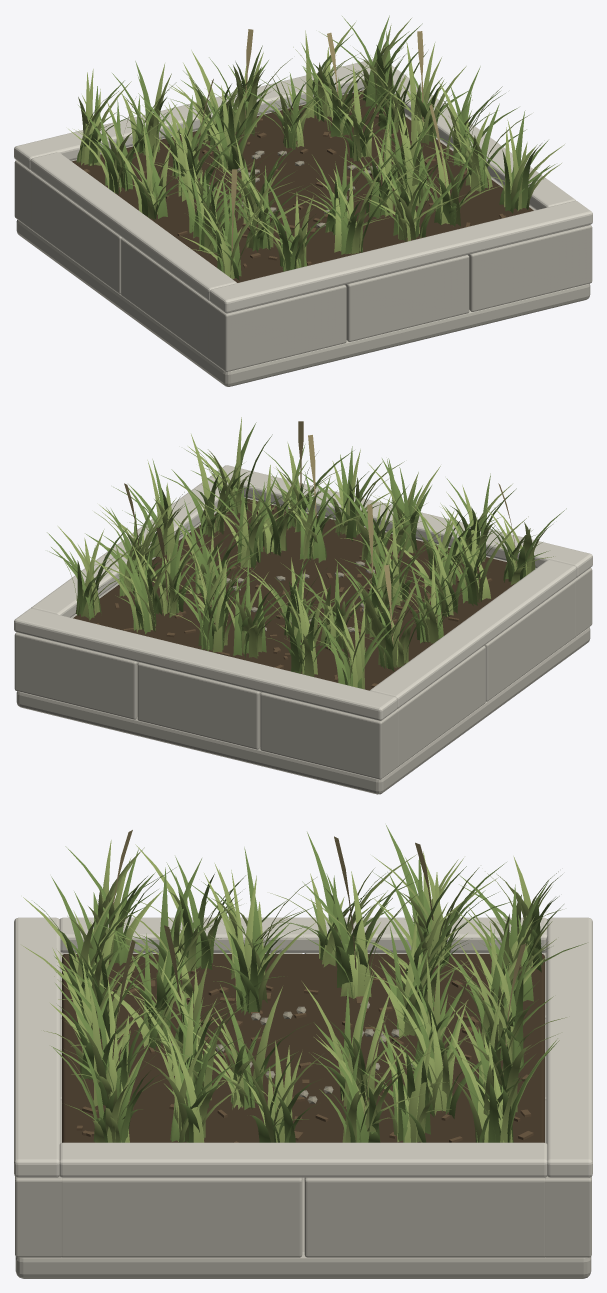
Rendered from entrance-planter.glb.
The picture shows the model from 3 angles, top to bottom: view 1: azimuth 30°, elevation 25°; view 2: azimuth 150°, elevation 25°; view 3: azimuth 270°, elevation 25°; orthographic projection. The views are drawn at different scales.
Visible parts, largest first — view 1: Planting warm limestone, Planting grass meadow, Planting grass detail, Planting honed coping, Planting dark loam, Planting seed heads, Planting bark mulch, Planting river pebbles; view 2: Planting warm limestone, Planting grass detail, Planting grass meadow, Planting honed coping, Planting dark loam, Planting seed heads, Planting bark mulch; view 3: Planting warm limestone, Planting honed coping, Planting grass detail, Planting grass meadow, Planting dark loam, Planting bark mulch, Planting seed heads, Planting river pebbles.
Boxes of the visible parts, box(x1,y1,x2,y2) form: Planting warm limestone: box(14, 89, 592, 386); Planting grass meadow: box(76, 15, 555, 280); Planting grass detail: box(68, 18, 564, 279); Planting honed coping: box(14, 59, 592, 313); Planting dark loam: box(72, 90, 533, 282); Planting seed heads: box(117, 29, 447, 253); Planting bark mulch: box(83, 97, 505, 267); Planting river pebbles: box(209, 150, 377, 227); Planting warm limestone: box(14, 497, 592, 794); Planting grass detail: box(58, 417, 553, 689); Planting grass meadow: box(47, 422, 566, 688); Planting honed coping: box(14, 465, 592, 720); Planting dark loam: box(73, 499, 515, 690); Planting seed heads: box(124, 421, 516, 644); Planting bark mulch: box(96, 507, 492, 687); Planting warm limestone: box(15, 952, 591, 1278); Planting honed coping: box(14, 917, 592, 1177); Planting grass detail: box(22, 840, 566, 1142); Planting grass meadow: box(34, 825, 586, 1142); Planting dark loam: box(62, 954, 544, 1142); Planting bark mulch: box(76, 971, 533, 1142); Planting seed heads: box(112, 830, 526, 1113); Planting river pebbles: box(171, 1001, 413, 1103).
Size of the model in its own units: 2.72 by 1.34 by 2.6.
